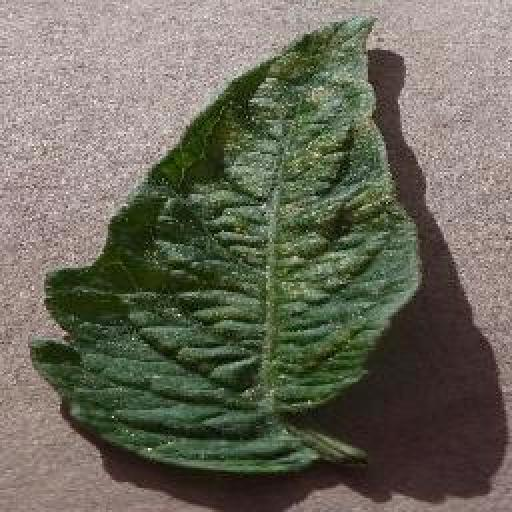disease_tomato: (29, 13, 423, 471)
